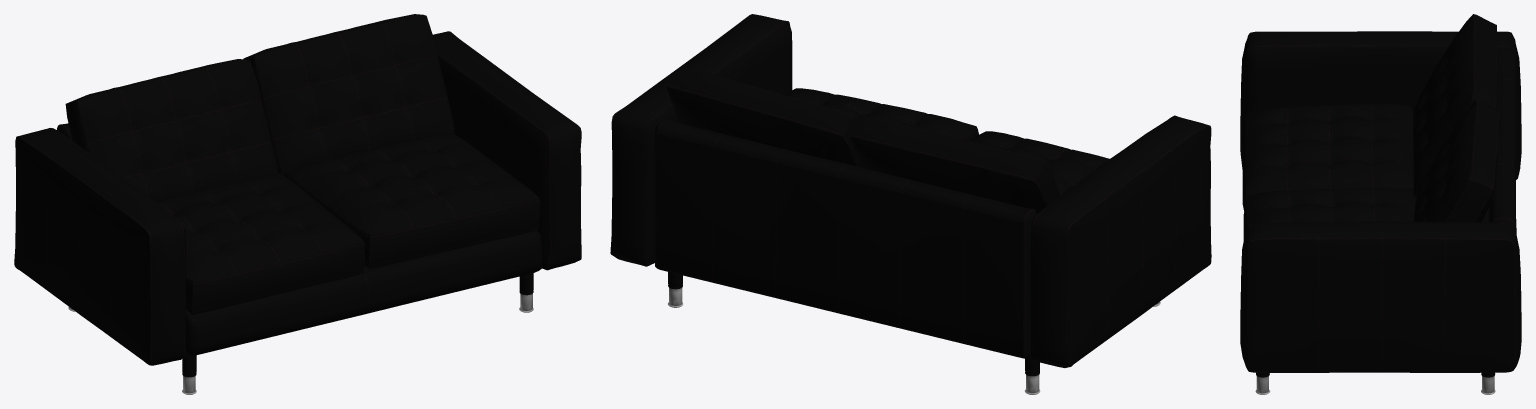
The model's file is Sofa.glb.
3 renders of one model, left to right at view 1: azimuth 30°, elevation 25°; view 2: azimuth 150°, elevation 25°; view 3: azimuth 270°, elevation 25°, orthographic. The views are drawn at different scales.
Parts seen in each view (by area): view 1: sm_sofa_0; view 2: sm_sofa_0; view 3: sm_sofa_0.
Boxes of the visible parts, x1=… form: sm_sofa_0: x1=14, y1=14, x2=581, y2=394; sm_sofa_0: x1=610, y1=14, x2=1211, y2=394; sm_sofa_0: x1=1240, y1=14, x2=1521, y2=394.
Bounding box in the file's own units: 1.5 × 0.7152 × 0.8409.
1 material, 1 textured.
